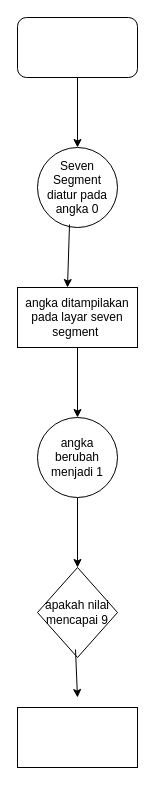
This 155x785 diagram has some shape labels left out. The box of each missing label's shape, as (x1, y1, x2, y2) in pixels:
Selesai: (16, 706, 138, 768)
Start: (16, 16, 138, 78)
